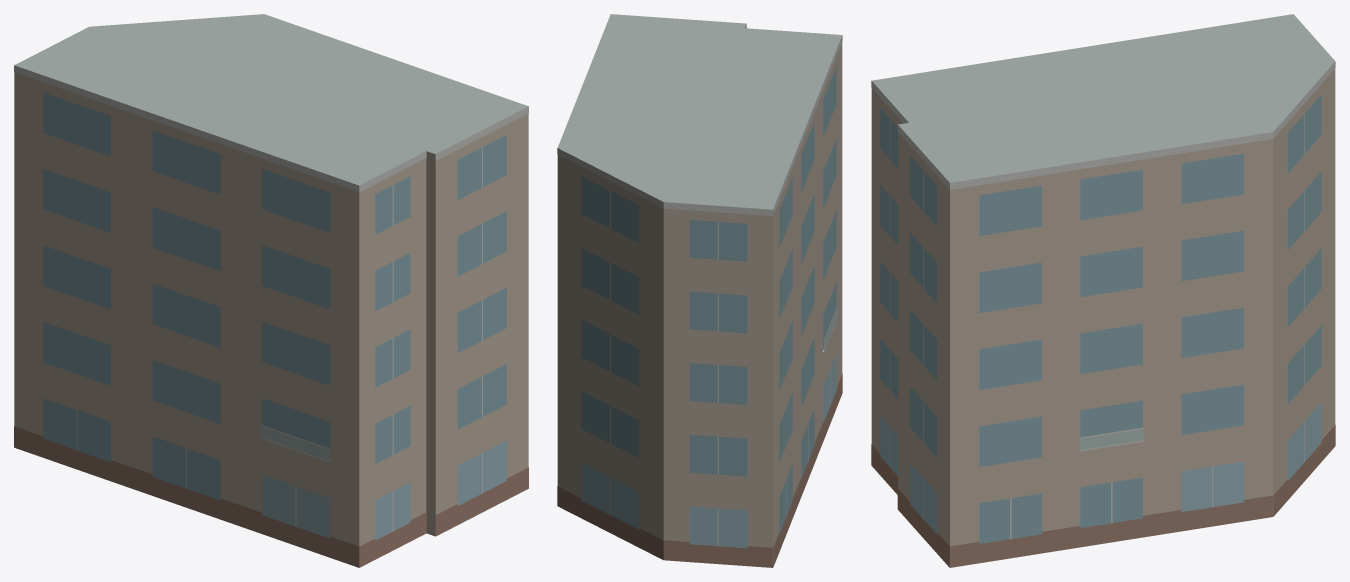
The model's file is survey-upis-32968236.glb.
3 views of the same model, side by side, from view 1: azimuth 30°, elevation 25°; view 2: azimuth 150°, elevation 25°; view 3: azimuth 270°, elevation 25° (orthographic). The views are drawn at different scales.
Parts seen in each view (by area): view 1: survey-upis-32968236.tmp; view 2: survey-upis-32968236.tmp; view 3: survey-upis-32968236.tmp.
Boxes of the visible parts, x1,y1,x2,y2 form: survey-upis-32968236.tmp: (14, 14, 528, 567); survey-upis-32968236.tmp: (557, 14, 842, 567); survey-upis-32968236.tmp: (871, 14, 1335, 567).
Size of the model in its own units: 12.77 by 13.55 by 14.81.
